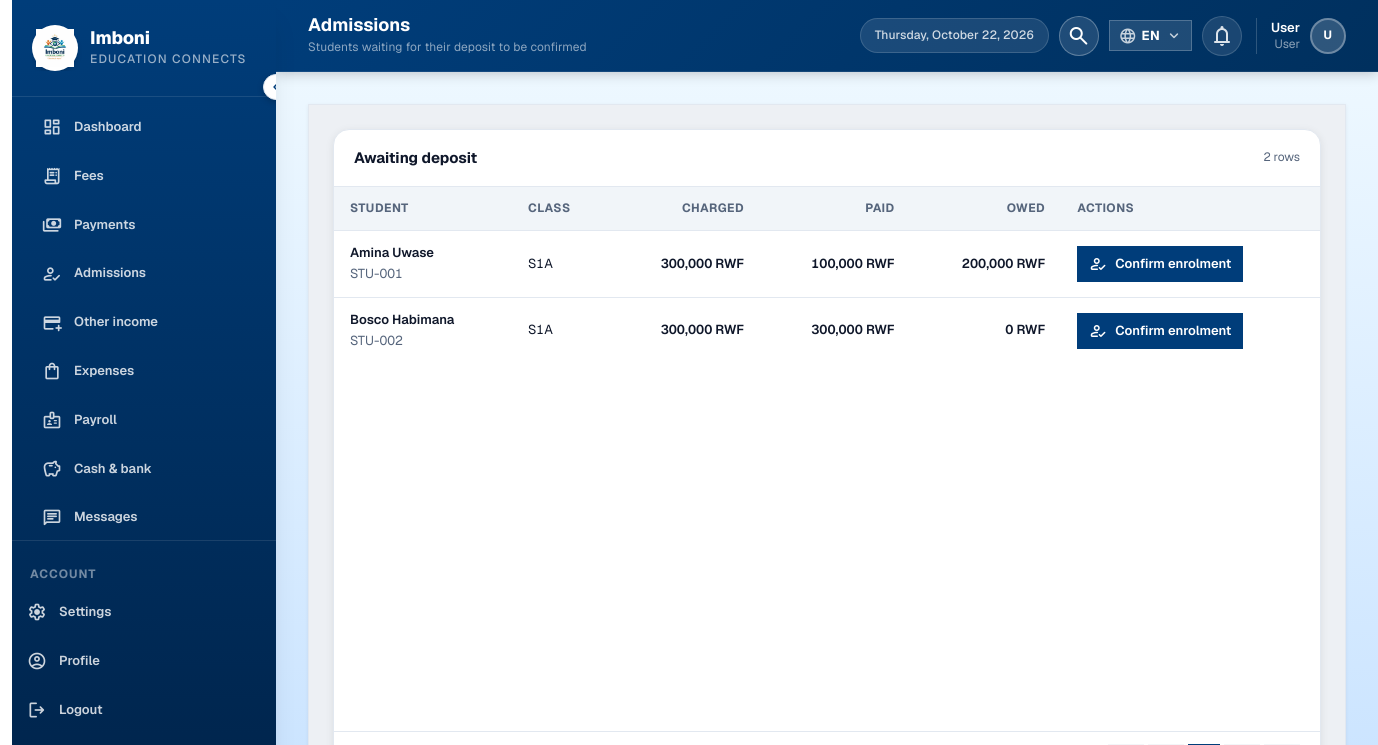
Scenario: FinanceAdmissions › confirms, says which class they were placed in, and takes them off the list
Expected: the text "Amina Uwase" is shown, left=350, top=244, right=434, bottom=261
Step 1. Click the button "Confirm enrolment" in the row of "Amina Uwase" → (1160, 264), box left=1077, top=246, right=1243, bottom=282
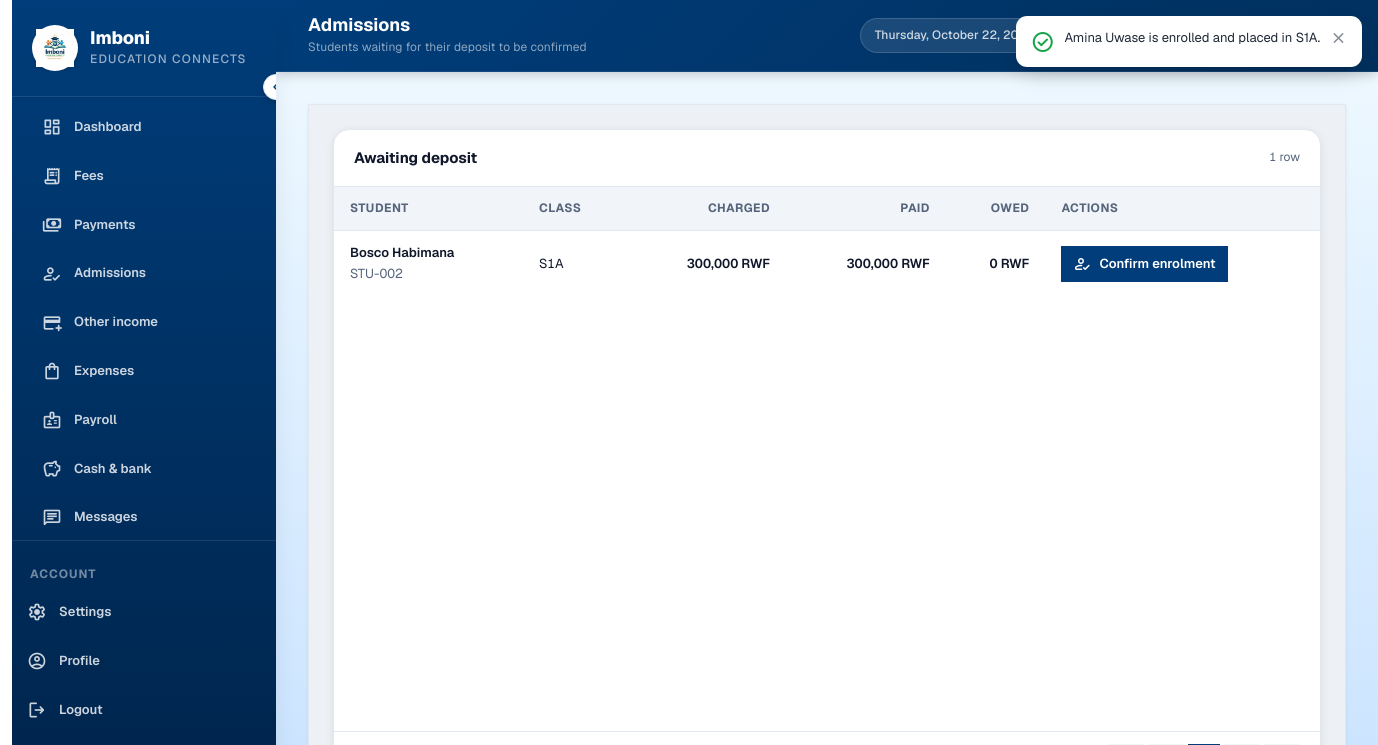
Expected: the text "Bosco Habimana" is shown, left=350, top=244, right=454, bottom=261
Now the text "Amina Uwase is enrolled and placed in S1A." is shown, box left=1064, top=29, right=1320, bottom=47
Now the text "STU-001" is gone
